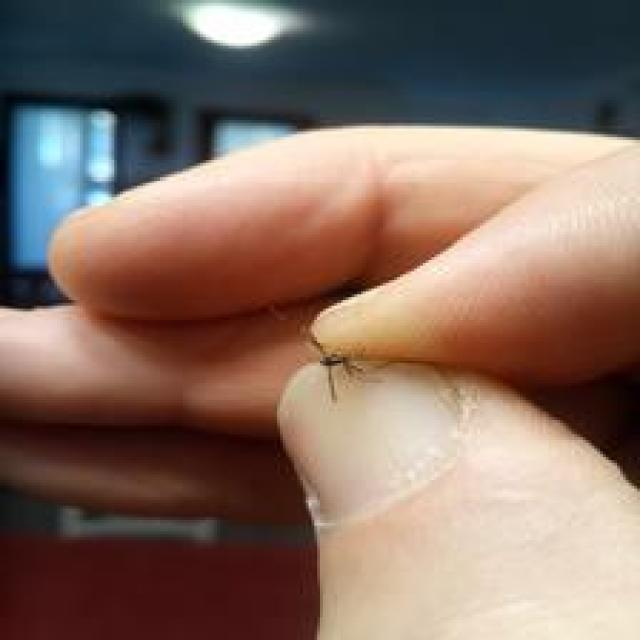Aedes albopictus: (306, 326, 366, 403)
